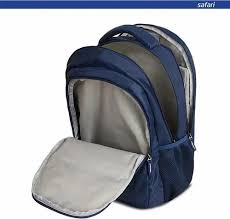backpack: (31, 22, 196, 218)
